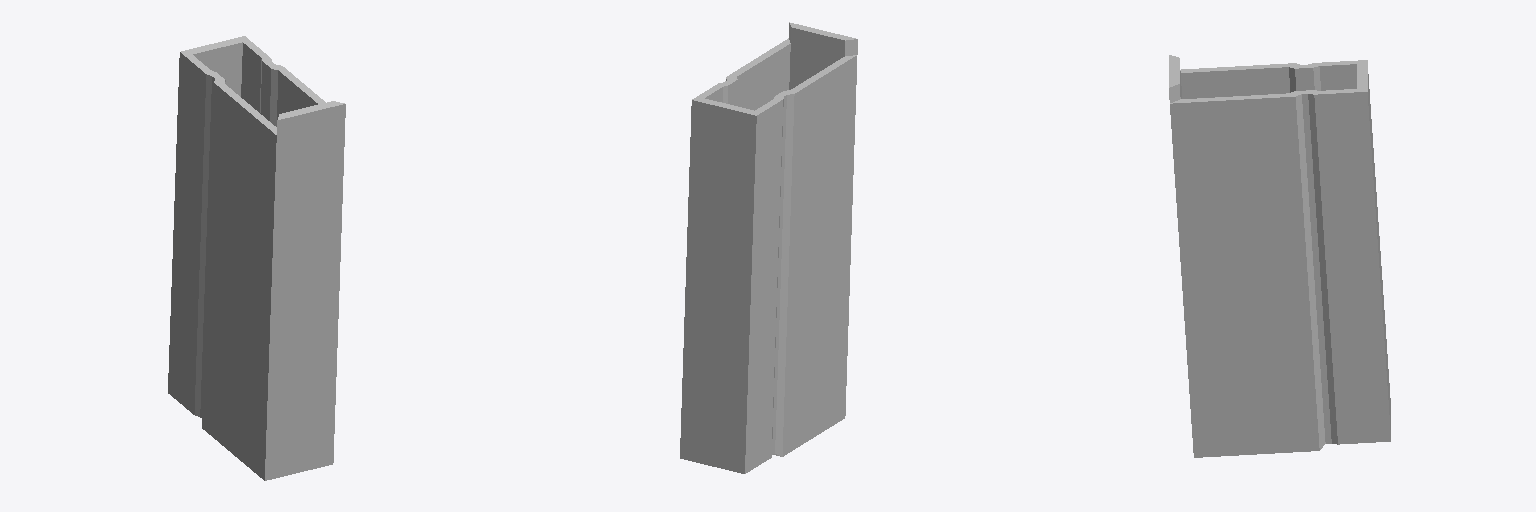
File: Mag.obj
The picture shows the model from 3 angles: view 1: azimuth 30°, elevation 25°; view 2: azimuth 150°, elevation 25°; view 3: azimuth 270°, elevation 25°; orthographic projection.
Parts seen in each view (by area): view 1: Cube.008; view 2: Cube.008; view 3: Cube.008.
Part boxes in pixels (x1,y1,x2,y2): Cube.008: (168,36,345,480); Cube.008: (680,22,857,473); Cube.008: (1169,55,1390,457).
Size of the model in its own units: 0.1125 by 0.5795 by 0.3156.